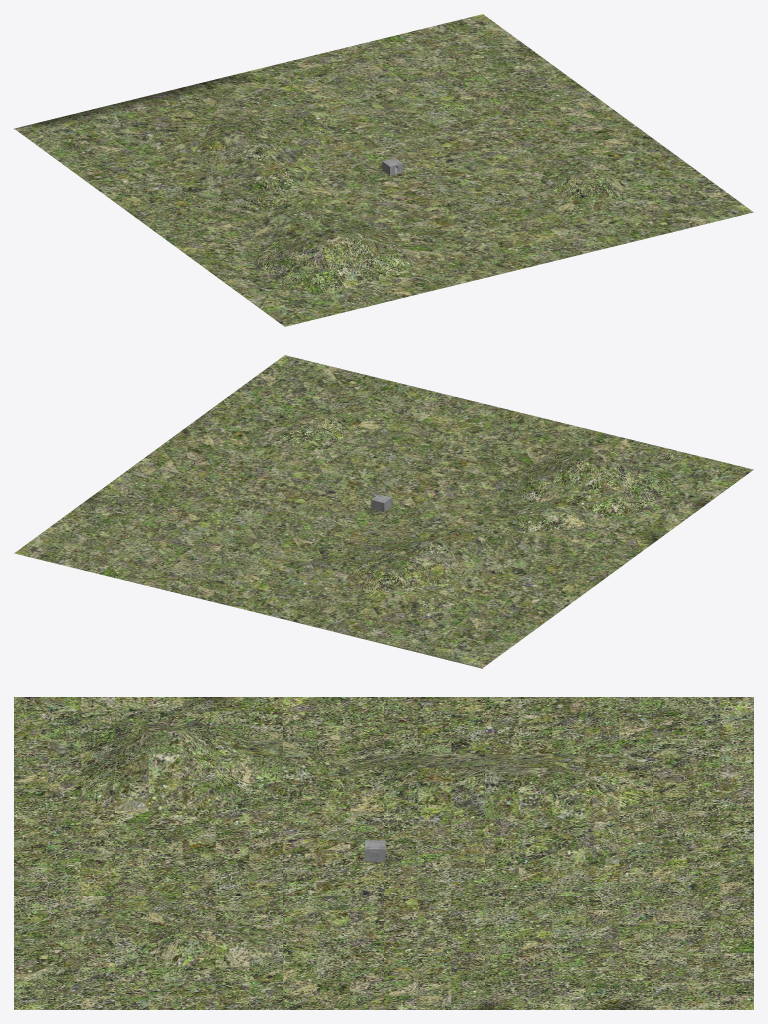
File: grass2.glb
The picture shows the model from 3 angles, top to bottom: view 1: azimuth 30°, elevation 25°; view 2: azimuth 150°, elevation 25°; view 3: azimuth 270°, elevation 25°; orthographic projection. The views are drawn at different scales.
Visible parts, largest first — view 1: Cube; view 2: Cube; view 3: Cube.
Part boxes in pixels (x1=…): Cube: x1=14, y1=14, x2=753, y2=326; Cube: x1=14, y1=355, x2=753, y2=668; Cube: x1=14, y1=697, x2=753, y2=1009.
Size of the model in its own units: 1000 by 58.01 by 1000.
Materials: 2 (2 with a texture image).
